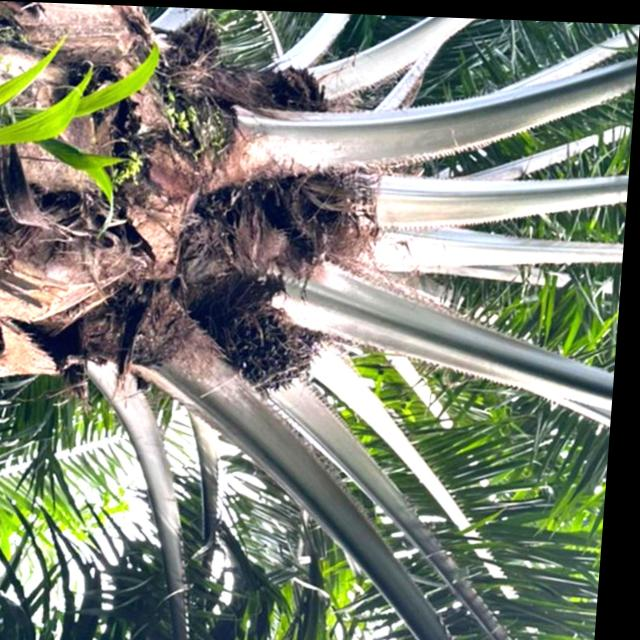unripe: (200, 284, 332, 397)
